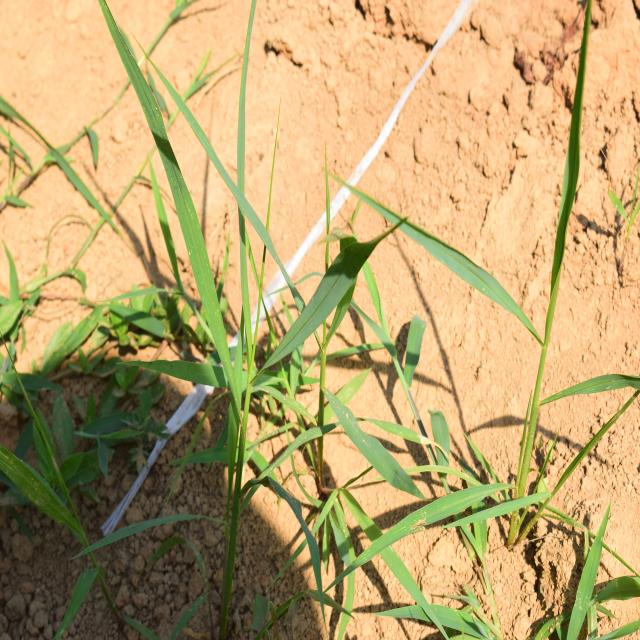green_foxtail: (420, 45, 628, 538), (147, 125, 381, 544)
